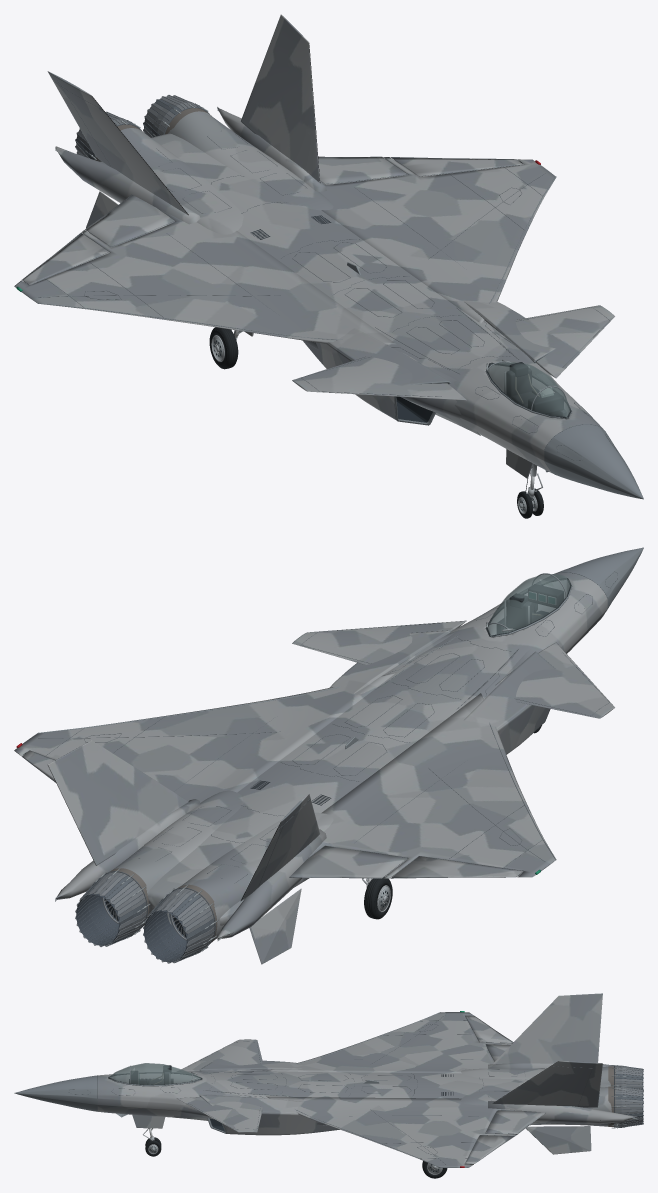
3 renders of one model, top to bottom at view 1: azimuth 30°, elevation 25°; view 2: azimuth 150°, elevation 25°; view 3: azimuth 270°, elevation 25°, orthographic. The views are drawn at different scales.
Parts seen in each view (by area): view 1: J20 | J20 • Cool gray polygon camouflage, J20 | J20 • Recessed panel shadow, J20 | J20 • Smoked gold blue canopy, J20 | J20 • Radome side facet variation, J20 | J20 • Radar nose dielectric gray, J20 | J20 • Edge coating, J20 | J20 • Titanium nozzle petals, J20 | J20 • Tire rubber, J20 | J20 • Canopy seals, J20 | J20 • Duct and exhaust interior, J20 | J20 • Cockpit charcoal upholstery, J20 | J20 • Heat discolored nozzle petals; view 2: J20 | J20 • Cool gray polygon camouflage, J20 | J20 • Dark heat treated liner, J20 | J20 • Recessed panel shadow, J20 | J20 • Titanium nozzle petals, J20 | J20 • Smoked gold blue canopy, J20 | J20 • Heat discolored nozzle petals, J20 | J20 • Edge coating, J20 | J20 • Radar nose dielectric gray, J20 | J20 • Canopy seals, J20 | J20 • Radome side facet variation, J20 | J20 • Tire rubber, J20 | J20 • Cockpit charcoal upholstery (+2 smaller); view 3: J20 | J20 • Cool gray polygon camouflage, J20 | J20 • Smoked gold blue canopy, J20 | J20 • Recessed panel shadow, J20 | J20 • Titanium nozzle petals, J20 | J20 • Radome side facet variation, J20 | J20 • Heat discolored nozzle petals, J20 | J20 • Edge coating, J20 | J20 • Radar nose dielectric gray, J20 | J20 • Tire rubber, J20 | J20 • Canopy seals, J20 | J20 • Oxidized titanium collar, J20 | J20 • Brushed steel mechanisms.
Boxes of the visible parts, box(x1,y1,x2,y2) form: J20 | J20 • Cool gray polygon camouflage: box(14, 14, 614, 478); J20 | J20 • Recessed panel shadow: box(22, 81, 617, 474); J20 | J20 • Smoked gold blue canopy: box(488, 362, 570, 417); J20 | J20 • Radome side facet variation: box(544, 427, 643, 499); J20 | J20 • Radar nose dielectric gray: box(400, 413, 643, 498); J20 | J20 • Edge coating: box(37, 176, 586, 472); J20 | J20 • Titanium nozzle petals: box(75, 95, 199, 158); J20 | J20 • Tire rubber: box(209, 327, 543, 518); J20 | J20 • Canopy seals: box(234, 331, 571, 503); J20 | J20 • Duct and exhaust interior: box(213, 215, 548, 510); J20 | J20 • Cockpit charcoal upholstery: box(506, 368, 566, 416); J20 | J20 • Heat discolored nozzle petals: box(75, 95, 209, 159); J20 | J20 • Cool gray polygon camouflage: box(14, 572, 614, 964); J20 | J20 • Dark heat treated liner: box(76, 876, 212, 962); J20 | J20 • Recessed panel shadow: box(22, 571, 617, 884); J20 | J20 • Titanium nozzle petals: box(75, 872, 214, 963); J20 | J20 • Smoked gold blue canopy: box(487, 574, 570, 636); J20 | J20 • Heat discolored nozzle petals: box(75, 871, 215, 963); J20 | J20 • Edge coating: box(37, 573, 586, 859); J20 | J20 • Radar nose dielectric gray: box(557, 547, 643, 584); J20 | J20 • Canopy seals: box(371, 578, 571, 879); J20 | J20 • Radome side facet variation: box(599, 548, 643, 608); J20 | J20 • Tire rubber: box(364, 725, 541, 919); J20 | J20 • Cockpit charcoal upholstery: box(497, 599, 543, 633); J20 | J20 • Cool gray polygon camouflage: box(97, 993, 637, 1167); J20 | J20 • Smoked gold blue canopy: box(109, 1063, 201, 1084); J20 | J20 • Recessed panel shadow: box(69, 1014, 593, 1164); J20 | J20 • Titanium nozzle petals: box(615, 1066, 643, 1127); J20 | J20 • Radome side facet variation: box(14, 1089, 97, 1111); J20 | J20 • Heat discolored nozzle petals: box(614, 1065, 643, 1127); J20 | J20 • Edge coating: box(108, 1012, 440, 1167); J20 | J20 • Radar nose dielectric gray: box(15, 1075, 223, 1131); J20 | J20 • Tire rubber: box(145, 1137, 447, 1178); J20 | J20 • Canopy seals: box(108, 1065, 202, 1085); J20 | J20 • Oxidized titanium collar: box(608, 1066, 615, 1126); J20 | J20 • Brushed steel mechanisms: box(150, 1065, 626, 1172).
Bounding box in the file's own units: 11.9 × 4.5 × 20.3.
24 materials, 1 textured.
